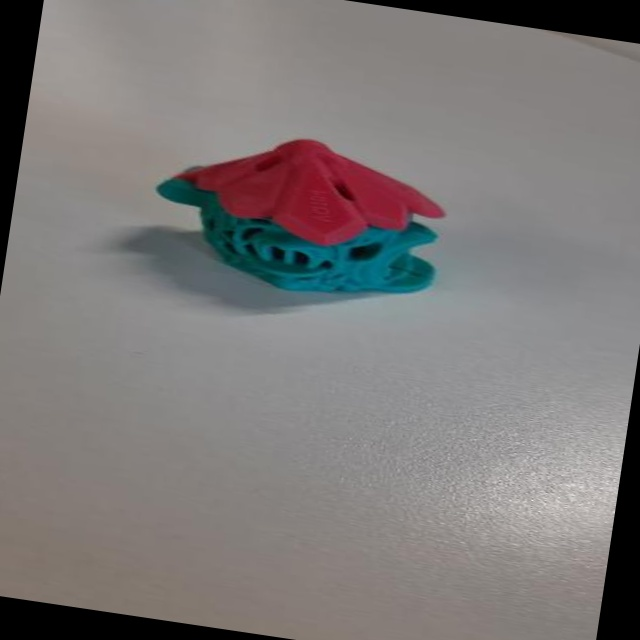House: (103, 95, 479, 363)
